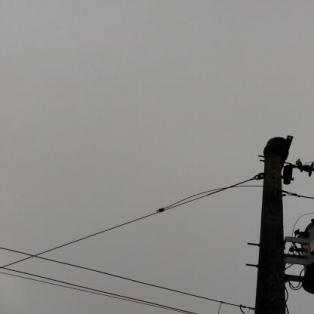Poste: (227, 126, 314, 314)
